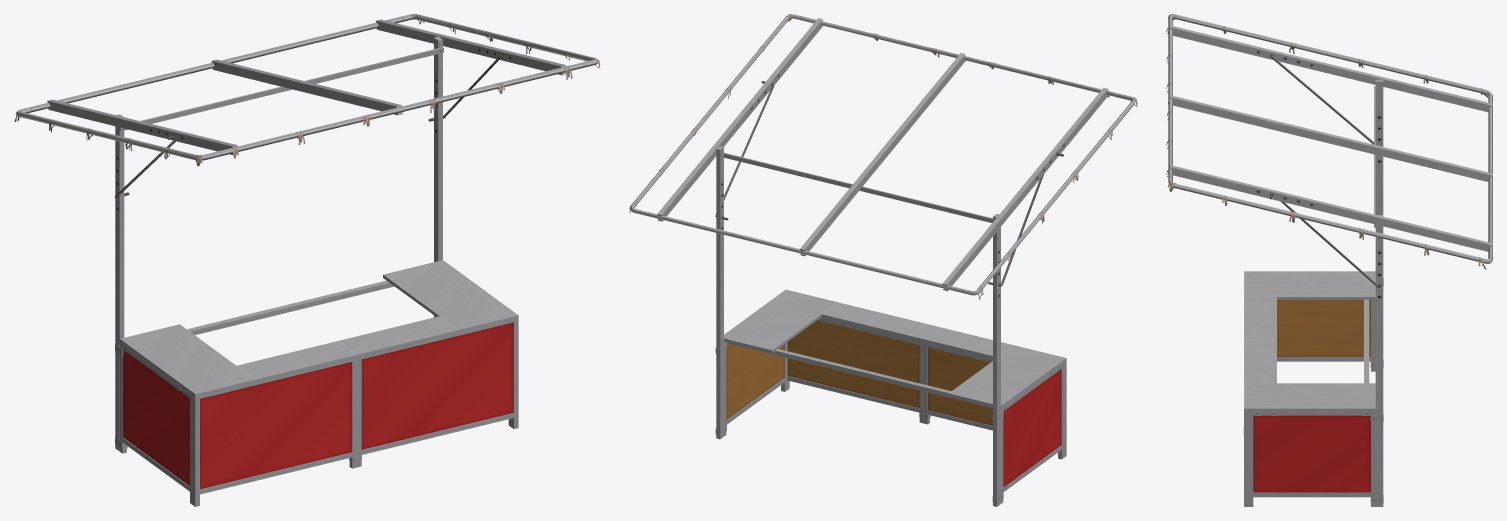
File: jsf_2P_s02_c06_t03.fbx
The picture shows the model from 3 angles, left to right: view 1: azimuth 30°, elevation 25°; view 2: azimuth 150°, elevation 25°; view 3: azimuth 270°, elevation 25°; orthographic projection. The views are drawn at different scales.
Parts seen in each view (by area): view 1: Base_s02_c06, Pillar2_s02, Table_2P_s02_t03, Rope_2P_s02; view 2: Base_s02_c06, Pillar2_s02, Table_2P_s02_t03; view 3: Pillar2_s02, Base_s02_c06, Table_2P_s02_t03, Rope_2P_s02.
Part boxes in pixels (x1,y1,x2,y2): Base_s02_c06: (115, 315, 518, 506); Pillar2_s02: (15, 14, 597, 451); Table_2P_s02_t03: (119, 260, 517, 397); Rope_2P_s02: (14, 15, 600, 166); Base_s02_c06: (715, 289, 1066, 503); Pillar2_s02: (629, 14, 1135, 506); Table_2P_s02_t03: (724, 290, 1065, 410); Pillar2_s02: (1168, 14, 1492, 506); Base_s02_c06: (1243, 271, 1383, 506); Table_2P_s02_t03: (1245, 271, 1375, 415); Rope_2P_s02: (1166, 14, 1488, 269).
Bounding box in the file's own units: 264 × 244 × 211.
